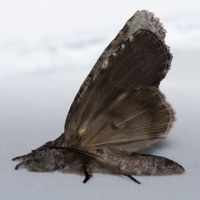insect: (13, 10, 183, 183)
